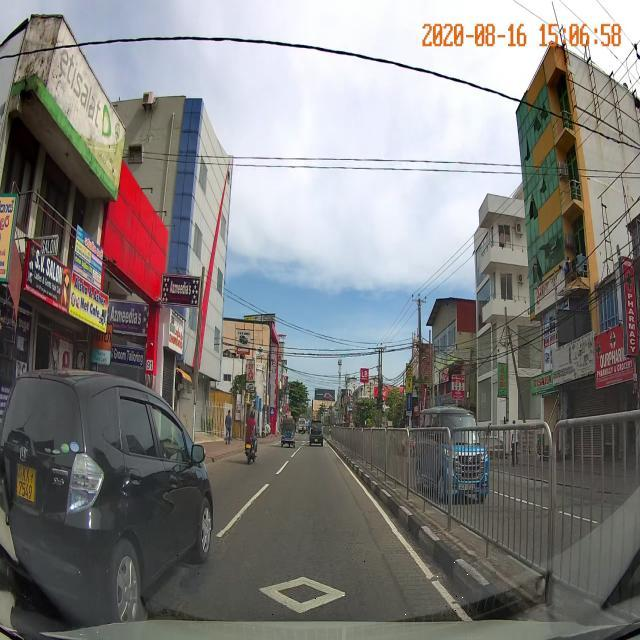diamond: (163, 531, 470, 617)
